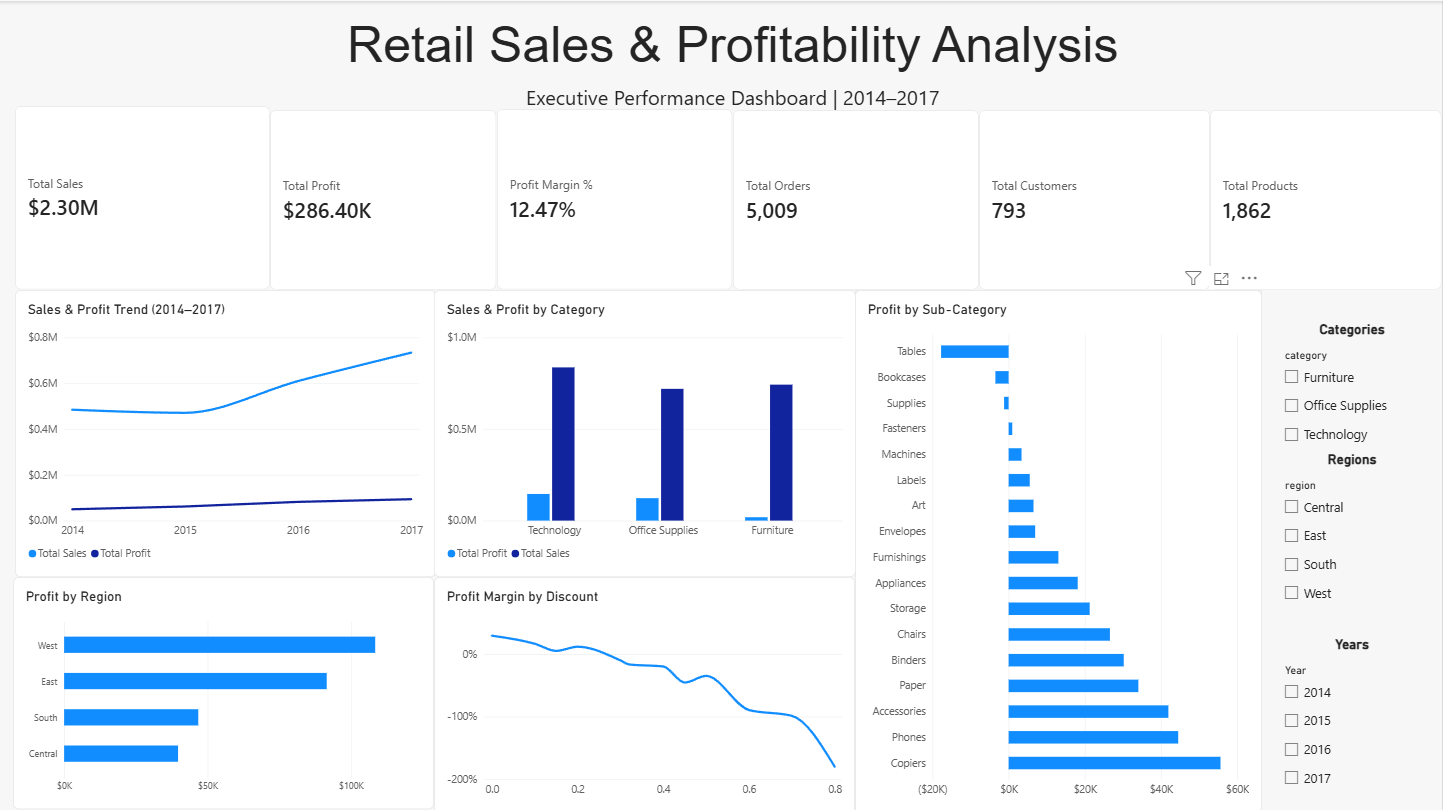

This screenshot's page, from the dashboard's own definition file:
{"tool":"powerbi","page":{"name":"Page 1","canvas":[1920,1080],"ordinal":0},"visuals":[{"type":"cardVisual","fields":{"Data":["superstore_analytics superstore.Total Profit"]},"box":[361.8,145,301.9,239.4],"z":0},{"type":"cardVisual","fields":{"Data":["superstore_analytics superstore.Profit Margin %"]},"box":[663.7,143.6,313.9,240.7],"z":1000},{"type":"cardVisual","fields":{"Data":["superstore_analytics superstore.Total Orders"]},"box":[977.6,145,327.2,239.4],"z":2000},{"type":"cardVisual","fields":{"Data":["superstore_analytics superstore.Total Products"]},"box":[1612,145,308.6,239.4],"z":3000},{"type":"cardVisual","fields":{"Data":["superstore_analytics superstore.Total Customers"]},"box":[1304.8,145,307.2,239.4],"z":4000},{"type":"lineChart","title":"Sales & Profit Trend (2014–2017)","fields":{"Category":["superstore_analytics superstore.order_date_clean.Variation.Date Hierarchy.Year"],"Y":["superstore_analytics superstore.Total Sales","superstore_analytics superstore.Total Profit"]},"box":[22.6,384.4,560,381.7],"z":5000},{"type":"cardVisual","fields":{"Data":["superstore_analytics superstore.Total Sales"]},"box":[22.6,139.7,339.2,244.7],"z":6000},{"type":"clusteredColumnChart","title":"Sales & Profit by Category","fields":{"Category":["superstore_analytics superstore.category"],"Y":["superstore_analytics superstore.Total Profit","superstore_analytics superstore.Total Sales"]},"box":[579.9,384.4,561.3,381.7],"z":7000},{"type":"clusteredBarChart","title":"Profit by Sub-Category","fields":{"Category":["superstore_analytics superstore.sub_category"],"Y":["superstore_analytics superstore.Total Profit"]},"box":[1139.9,384.4,541.3,695.6],"z":8000},{"type":"lineChart","title":"Profit Margin by Discount","fields":{"Category":["superstore_analytics superstore.discount"],"Y":["superstore_analytics superstore.Profit Margin by Discount"]},"box":[579.9,766.1,560,313.9],"z":9000},{"type":"clusteredBarChart","title":"Profit by Region","fields":{"Category":["superstore_analytics superstore.region"],"Y":["superstore_analytics superstore.Total Profit"]},"box":[20,766.1,560,308.6],"z":10000},{"type":"slicer","title":"Years","fields":{"Values":["superstore_analytics superstore.order_date_clean.Variation.Date Hierarchy.Year"]},"box":[1703.9,844.5,194.6,235.9],"z":11000},{"type":"slicer","title":"Regions","fields":{"Values":["superstore_analytics superstore.region"]},"box":[1703.9,598.8,194.6,245.8],"z":12000},{"type":"slicer","title":"Categories","fields":{"Values":["superstore_analytics superstore.category"]},"box":[1703.9,425.6,194.6,176.5],"z":13000},{"type":"textbox","box":[1726,0,194,280],"z":14000},{"type":"textbox","title":"Retail Sales & Profitability Analysis","box":[34.6,20,1885.4,145.2],"z":15000}]}

Visuals, with their boxes in screenshot pixels (x1, y1, x2, y2), scaled from the page's 1920x1080 canvas onto the 1443x810 screenshot:
cardVisual - superstore_analytics superstore.Total Profit: 272, 109, 499, 288
cardVisual - superstore_analytics superstore.Profit Margin %: 499, 108, 735, 288
cardVisual - superstore_analytics superstore.Total Orders: 735, 109, 981, 288
cardVisual - superstore_analytics superstore.Total Products: 1212, 109, 1442, 288
cardVisual - superstore_analytics superstore.Total Customers: 981, 109, 1212, 288
"Sales & Profit Trend (2014–2017)" lineChart: 17, 288, 438, 575
cardVisual - superstore_analytics superstore.Total Sales: 17, 105, 272, 288
"Sales & Profit by Category" clusteredColumnChart: 436, 288, 858, 575
"Profit by Sub-Category" clusteredBarChart: 857, 288, 1264, 809
"Profit Margin by Discount" lineChart: 436, 575, 857, 809
"Profit by Region" clusteredBarChart: 15, 575, 436, 806
"Years" slicer: 1281, 633, 1427, 809
"Regions" slicer: 1281, 449, 1427, 633
"Categories" slicer: 1281, 319, 1427, 452
textbox: 1297, 0, 1442, 210
"Retail Sales & Profitability Analysis" textbox: 26, 15, 1442, 124
